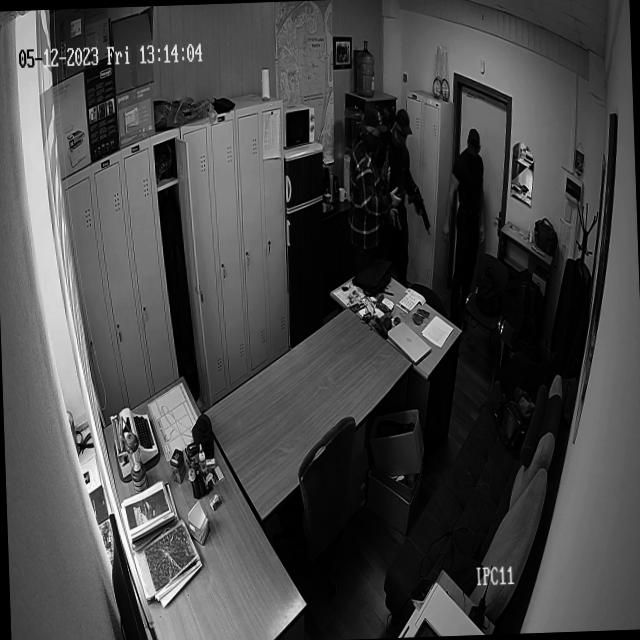gun: (407, 165, 431, 236)
person: (447, 124, 492, 310), (343, 105, 380, 272)
person with a gun: (376, 93, 436, 328)
